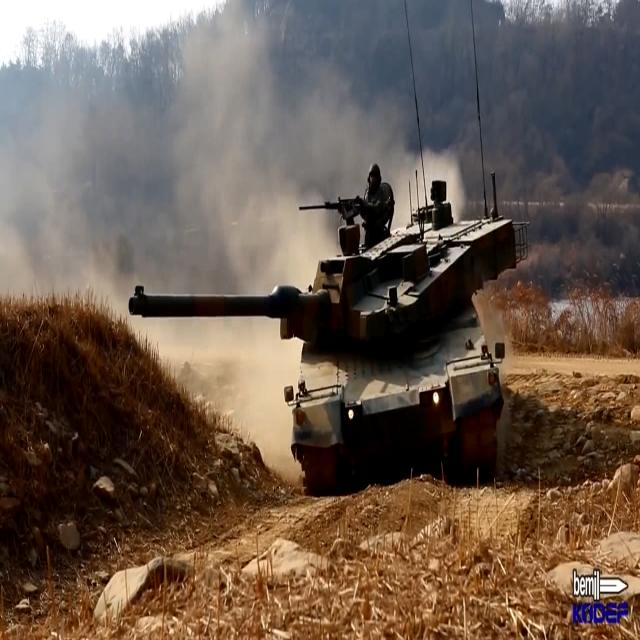korea tank: (129, 160, 531, 498)
